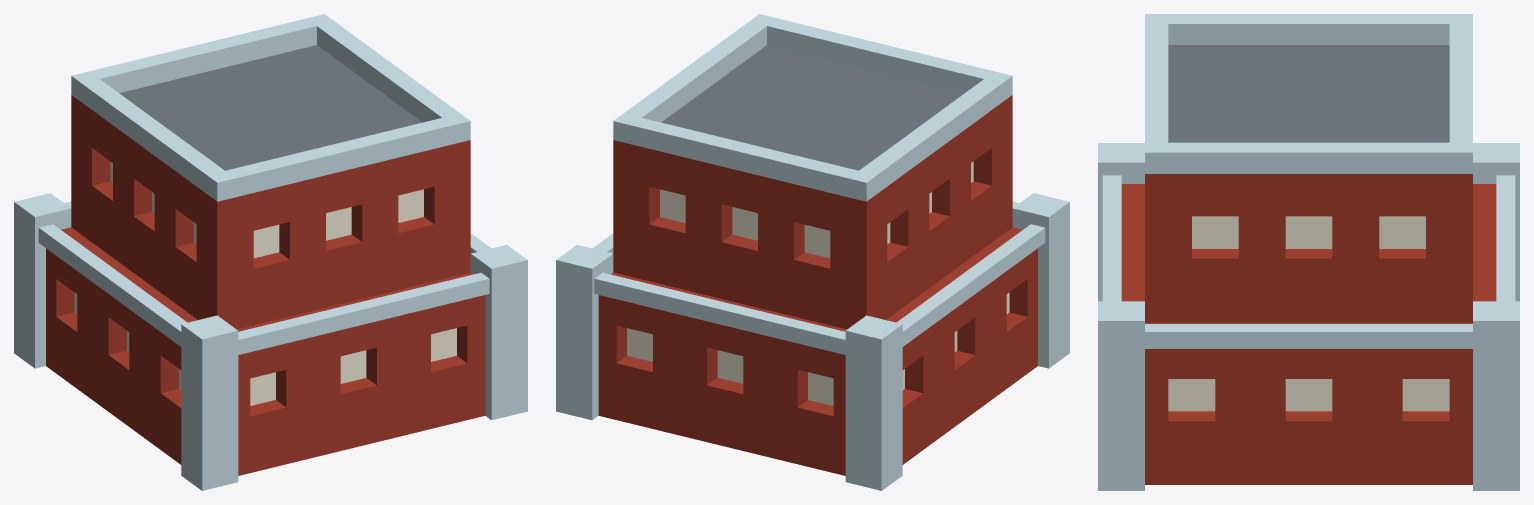
The model's file is Building_6 (Red).obj.
3 renders of one model, left to right at view 1: azimuth 30°, elevation 25°; view 2: azimuth 150°, elevation 25°; view 3: azimuth 270°, elevation 25°, orthographic. The views are drawn at different scales.
Visible parts, largest first — view 1: Building_6_(Red); view 2: Building_6_(Red); view 3: Building_6_(Red).
Part boxes in pixels (x1=…): Building_6_(Red): x1=14, y1=14, x2=527, y2=490; Building_6_(Red): x1=556, y1=14, x2=1069, y2=490; Building_6_(Red): x1=1098, y1=14, x2=1519, y2=490.
Size of the model in its own units: 1.8 by 1.5 by 1.8.
